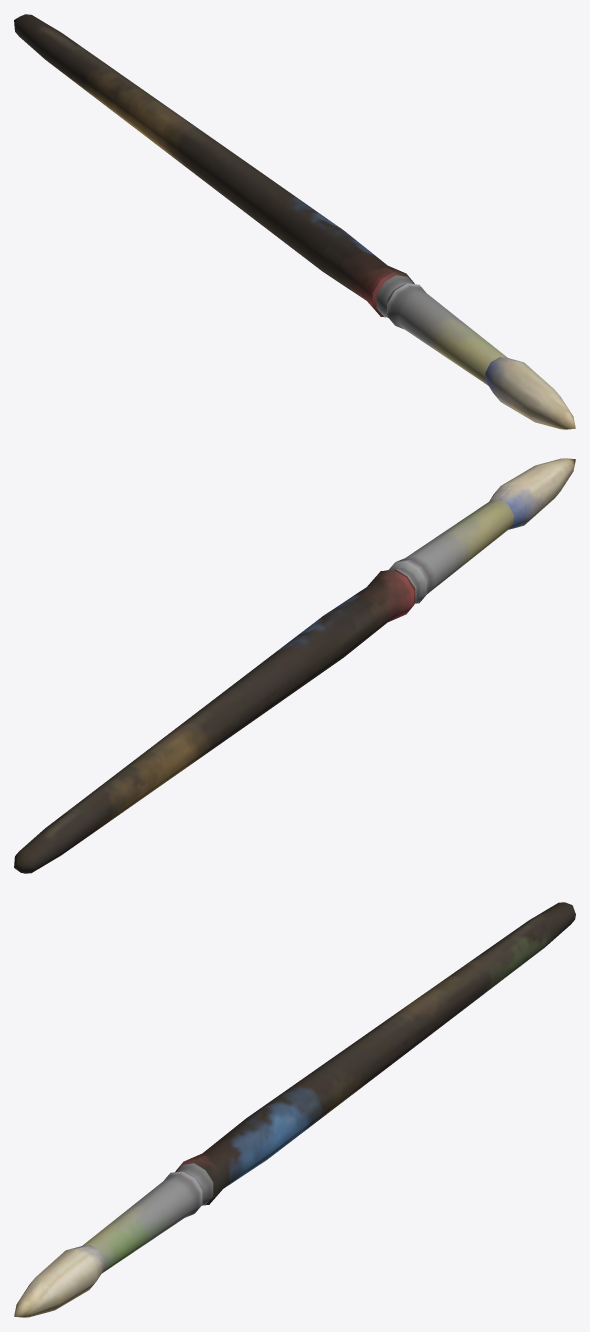
The model's file is SM_Brush_4.glb.
The picture shows the model from 3 angles, top to bottom: view 1: azimuth 30°, elevation 25°; view 2: azimuth 150°, elevation 25°; view 3: azimuth 330°, elevation 25°; orthographic projection.
Parts seen in each view (by area): view 1: SM_Brush_4; view 2: SM_Brush_4; view 3: SM_Brush_4.
Boxes of the visible parts, x1,y1,x2,y2 form: SM_Brush_4: (14, 14, 575, 429); SM_Brush_4: (14, 458, 575, 873); SM_Brush_4: (14, 902, 575, 1317).
Size of the model in its own units: 0.0132 by 0.0139 by 0.3071.
1 material, 1 textured.
